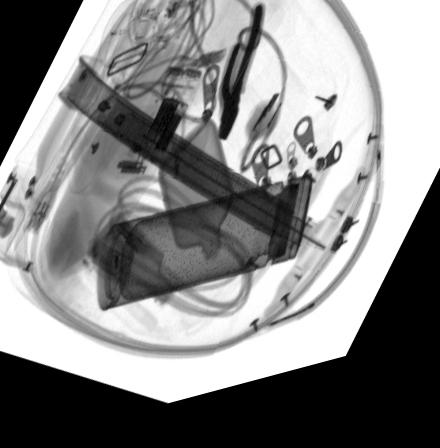Pliers: (218, 17, 262, 151)
